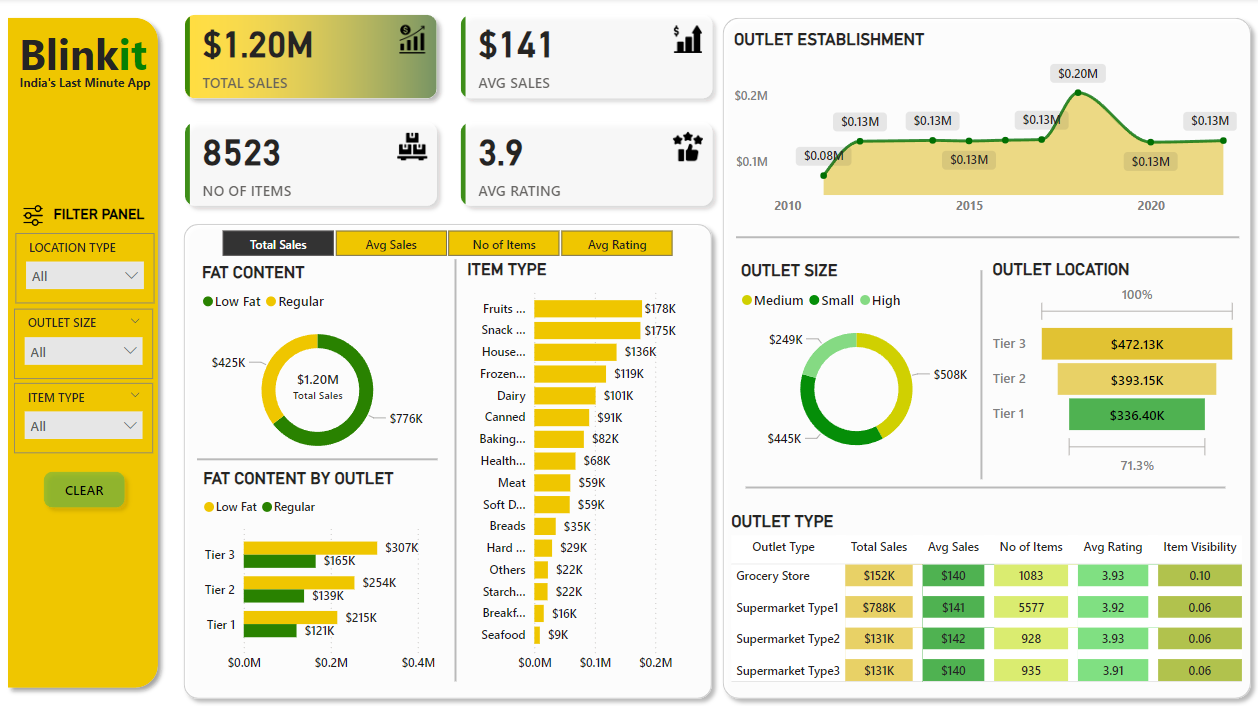

What the dashboard file says about the page in this screenshot:
{"tool":"powerbi","page":{"name":"Page 1","canvas":[1280,720],"ordinal":0},"visuals":[{"type":"shape","box":[0,11.2,170.4,698.3],"z":0},{"type":"textbox","box":[0,22.3,170.4,71.2],"z":1000},{"type":"textbox","box":[7,71.2,160.6,44.7],"z":2000},{"type":"cardVisual","fields":{"Data":["Table1.Total Sales","Table1.Avg Sales","Table1.No of Items","Table1.Avg Rating"]},"box":[171.4,0,570,228.6],"z":3000},{"type":"shape","box":[178.6,220,554.3,500],"z":4000},{"type":"donutChart","title":"FAT CONTENT","fields":{"Y":["Table1.Total Sales"],"Category":["Table1.Item Fat Content"]},"box":[201.4,268.6,244.3,211.4],"z":5000},{"type":"slicer","fields":{"Values":["Parameter.Parameter"]},"box":[201.4,228.6,507.1,40],"z":6000},{"type":"cardVisual","fields":{"Data":["Table1.Total Sales"]},"box":[278.6,360,92.9,60],"z":7000},{"type":"clusteredBarChart","title":"FAT CONTENT BY OUTLET","fields":{"Y":["Table1.Total Sales"],"Category":["Table1.Outlet Location Type"],"Series":["Table1.Item Fat Content"]},"box":[202.2,477.5,245.2,216.5],"z":8000},{"type":"shape","box":[201.1,462.3,244.4,12.6],"z":9000},{"type":"shape","box":[456.7,265.4,14,428.8],"z":10000},{"type":"barChart","title":"ITEM TYPE","fields":{"Y":["Table1.Total Sales"],"Category":["Table1.Item Type"]},"box":[470,265.7,238.6,428.6],"z":11000},{"type":"shape","box":[726.2,11.2,554.5,709.5],"z":12000},{"type":"lineChart","title":"OUTLET ESTABLISHMENT","fields":{"Category":["Table1.Outlet Establishment Year"],"Y":["Table1.Total Sales"]},"box":[741.6,32.1,520.9,196.9],"z":13000},{"type":"shape","box":[748.6,195.5,511.2,95],"z":14000},{"type":"donutChart","title":"OUTLET SIZE","fields":{"Category":["Table1.Outlet Size"],"Y":["Table1.Total Sales"]},"box":[748.6,266.8,244.4,212.3],"z":15000},{"type":"funnel","title":"OUTLET LOCATION","fields":{"Y":["Sum(Table1.Sales)"],"Category":["Table1.Outlet Location Type"]},"box":[1004.2,265.4,258.4,223.5],"z":16000},{"type":"shape","box":[991.6,276.5,12.6,212.3],"z":17000},{"type":"shape","box":[758.4,490.2,487.4,14],"z":18000},{"type":"pivotTable","title":"OUTLET TYPE","fields":{"Rows":["Table1.Outlet Type"],"Values":["Table1.Total Sales","Table1.Avg Sales","Table1.No of Items","Table1.Avg Rating","Avg(Table1.Item Visibility)"]},"box":[738.8,520.9,529.3,188.5],"z":19000},{"type":"slicer","fields":{"Values":["Table1.Outlet Location Type"]},"box":[17.2,238.1,141.1,71.2],"z":19001},{"type":"slicer","fields":{"Values":["Table1.Outlet Size"]},"box":[15.8,315,141.1,71.2],"z":19002},{"type":"slicer","fields":{"Values":["Table1.Item Type"]},"box":[15.8,390.4,141.1,71.2],"z":19003},{"type":"actionButton","box":[35.8,471.7,100.4,54.5],"z":19004},{"type":"textbox","box":[50,205.7,117.1,31.4],"z":19005},{"type":"image","box":[15.8,205,38.7,31.5],"z":19006}]}

Visuals, with their boxes in screenshot pixels (x1, y1, x2, y2), scaled from the page's 1280x720 canvas onto the 1258x706 screenshot:
shape: box(0, 11, 167, 696)
textbox: box(0, 22, 167, 92)
textbox: box(7, 70, 165, 114)
cardVisual - Table1.Total Sales x Table1.Avg Sales: box(168, 0, 729, 224)
shape: box(176, 216, 720, 705)
"FAT CONTENT" donutChart: box(198, 263, 438, 471)
slicer - Parameter.Parameter: box(198, 224, 696, 263)
cardVisual - Table1.Total Sales: box(274, 353, 365, 412)
"FAT CONTENT BY OUTLET" clusteredBarChart: box(199, 468, 440, 681)
shape: box(198, 453, 438, 466)
shape: box(449, 260, 463, 681)
"ITEM TYPE" barChart: box(462, 261, 696, 681)
shape: box(714, 11, 1257, 705)
"OUTLET ESTABLISHMENT" lineChart: box(729, 31, 1241, 225)
shape: box(736, 192, 1238, 285)
"OUTLET SIZE" donutChart: box(736, 262, 976, 470)
"OUTLET LOCATION" funnel: box(987, 260, 1241, 479)
shape: box(975, 271, 987, 479)
shape: box(745, 481, 1224, 494)
"OUTLET TYPE" pivotTable: box(726, 511, 1246, 696)
slicer - Table1.Outlet Location Type: box(17, 233, 156, 303)
slicer - Table1.Outlet Size: box(16, 309, 154, 379)
slicer - Table1.Item Type: box(16, 383, 154, 453)
actionButton: box(35, 463, 134, 516)
textbox: box(49, 202, 164, 232)
image: box(16, 201, 54, 232)
